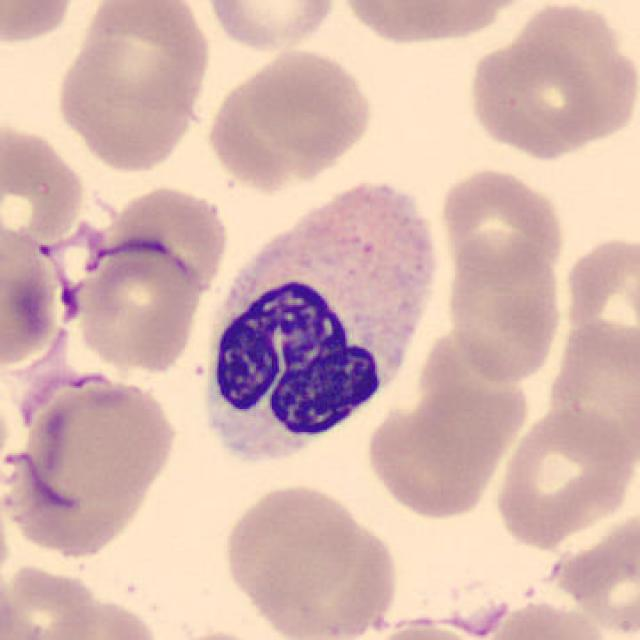Neutrophil: (192, 173, 441, 476)
RBC: (5, 372, 182, 541), (462, 2, 638, 160), (203, 44, 377, 189), (50, 27, 210, 175), (491, 401, 636, 548), (219, 480, 366, 620), (68, 233, 208, 379), (443, 229, 565, 388), (362, 392, 507, 524), (75, 0, 215, 115), (435, 164, 569, 284), (103, 182, 235, 300), (261, 527, 398, 640), (0, 113, 89, 257), (548, 506, 638, 638), (0, 212, 73, 372), (558, 230, 638, 354), (333, 0, 535, 48), (0, 559, 107, 640), (199, 0, 340, 53), (473, 594, 620, 640), (30, 596, 162, 640), (0, 0, 80, 48), (356, 617, 496, 640), (158, 627, 293, 640)
